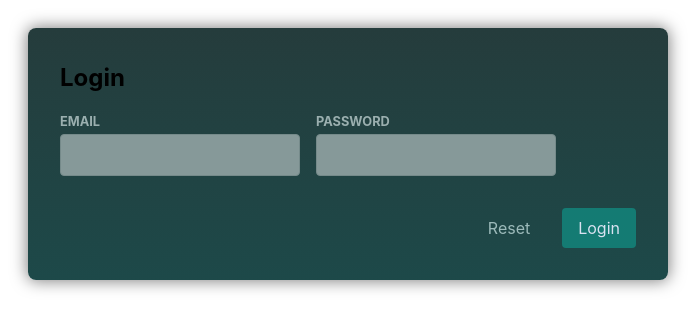
Test: Login › shows an error when the email has no @
Type "no-at-sign" into the field labelled "Email" at (180, 155), box [60, 134, 300, 176]
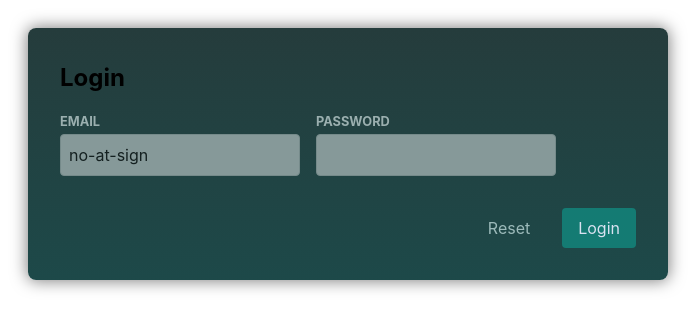
Submit the form
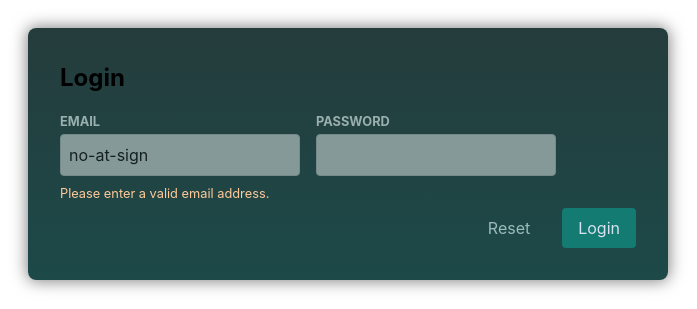
Expected: the text "Please enter a valid email address." is shown, [60, 184, 300, 204]
